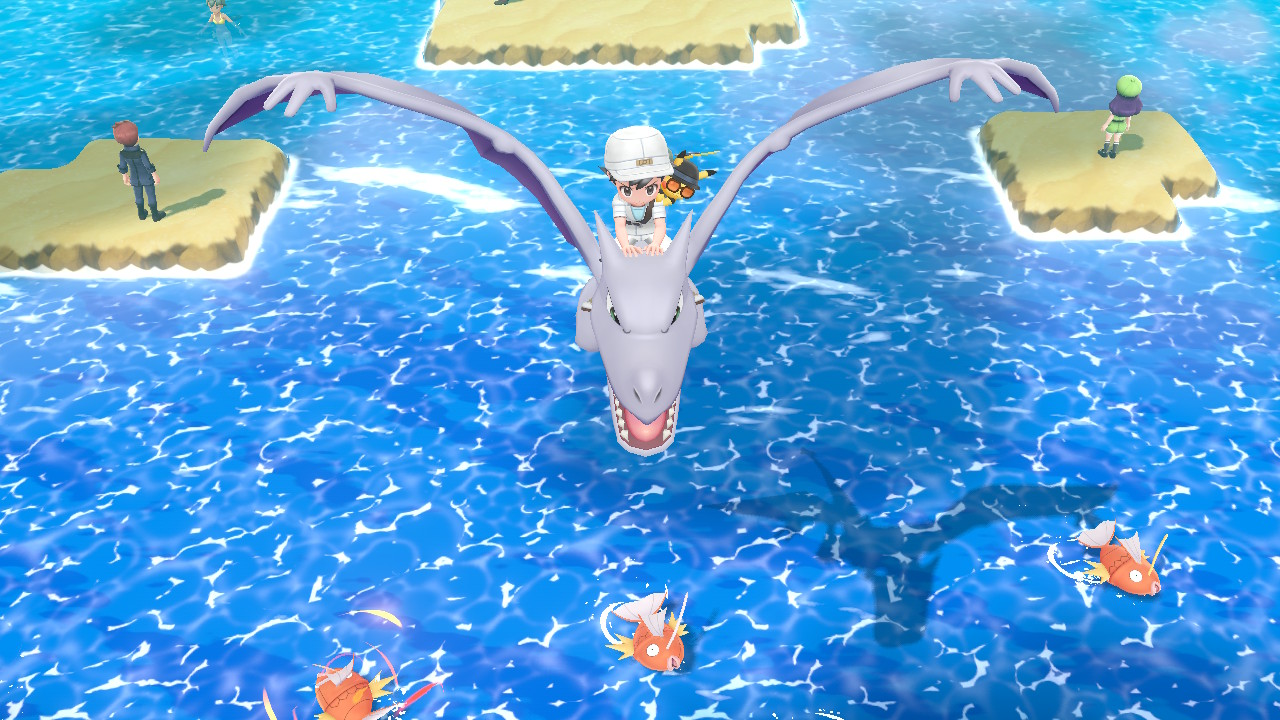Red: (1068, 517, 1171, 602), (600, 589, 694, 676), (298, 652, 407, 720)
